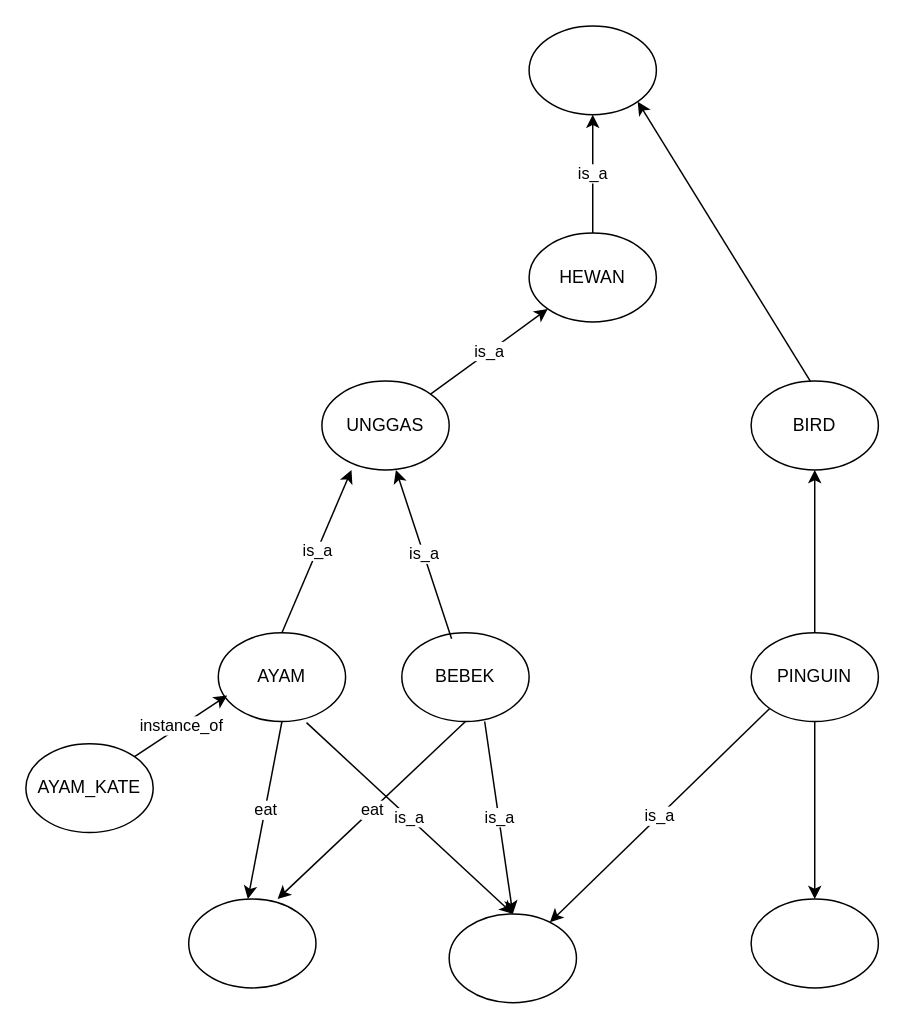
The diagram is 904 pixels wide and 1029 high, and some of its shapes have lost their labels. The centre of each missing label's shape, as x and y in pixels:
ANIMAL: point (592, 69)
Biji-bijian: point (251, 943)
FEATHER: point (814, 943)
SAYAP: point (512, 957)
